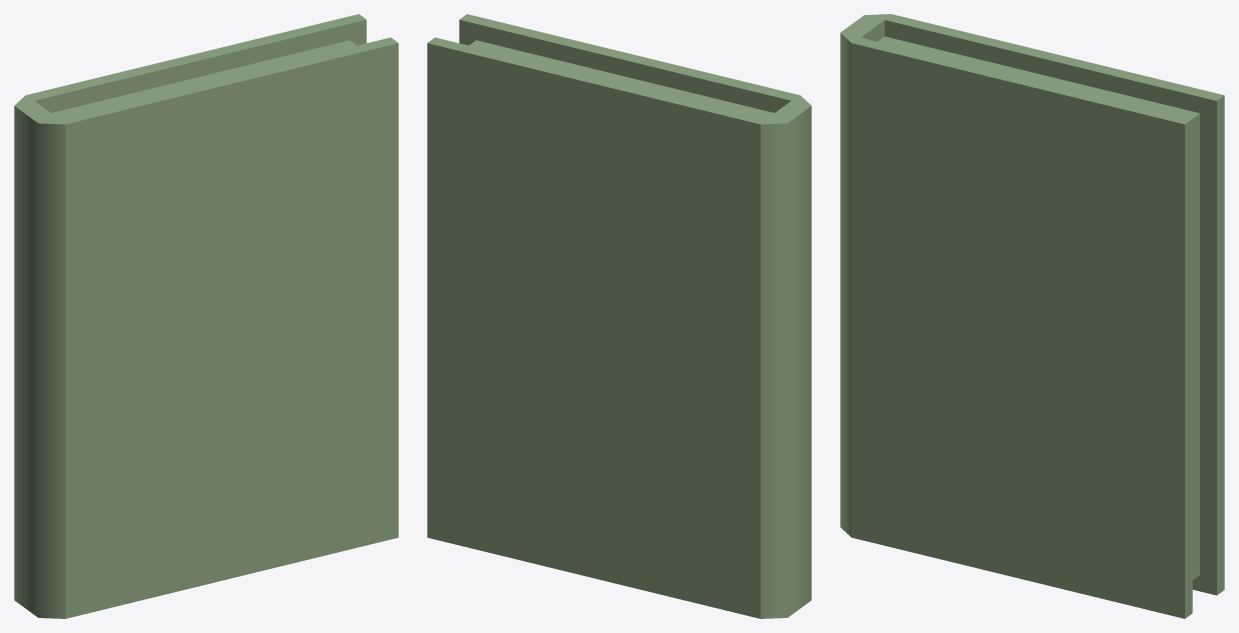
File: Book_V04.fbx
3 renders of one model, left to right at view 1: azimuth 30°, elevation 25°; view 2: azimuth 150°, elevation 25°; view 3: azimuth 330°, elevation 25°, orthographic.
Parts seen in each view (by area): view 1: Book_V4; view 2: Book_V4; view 3: Book_V4.
Boxes of the visible parts, <box> form: Book_V4: <box>14,14,398,618</box>; Book_V4: <box>427,14,811,618</box>; Book_V4: <box>840,14,1224,618</box>.
Size of the model in its own units: 21.97 by 29.45 by 4.29.
